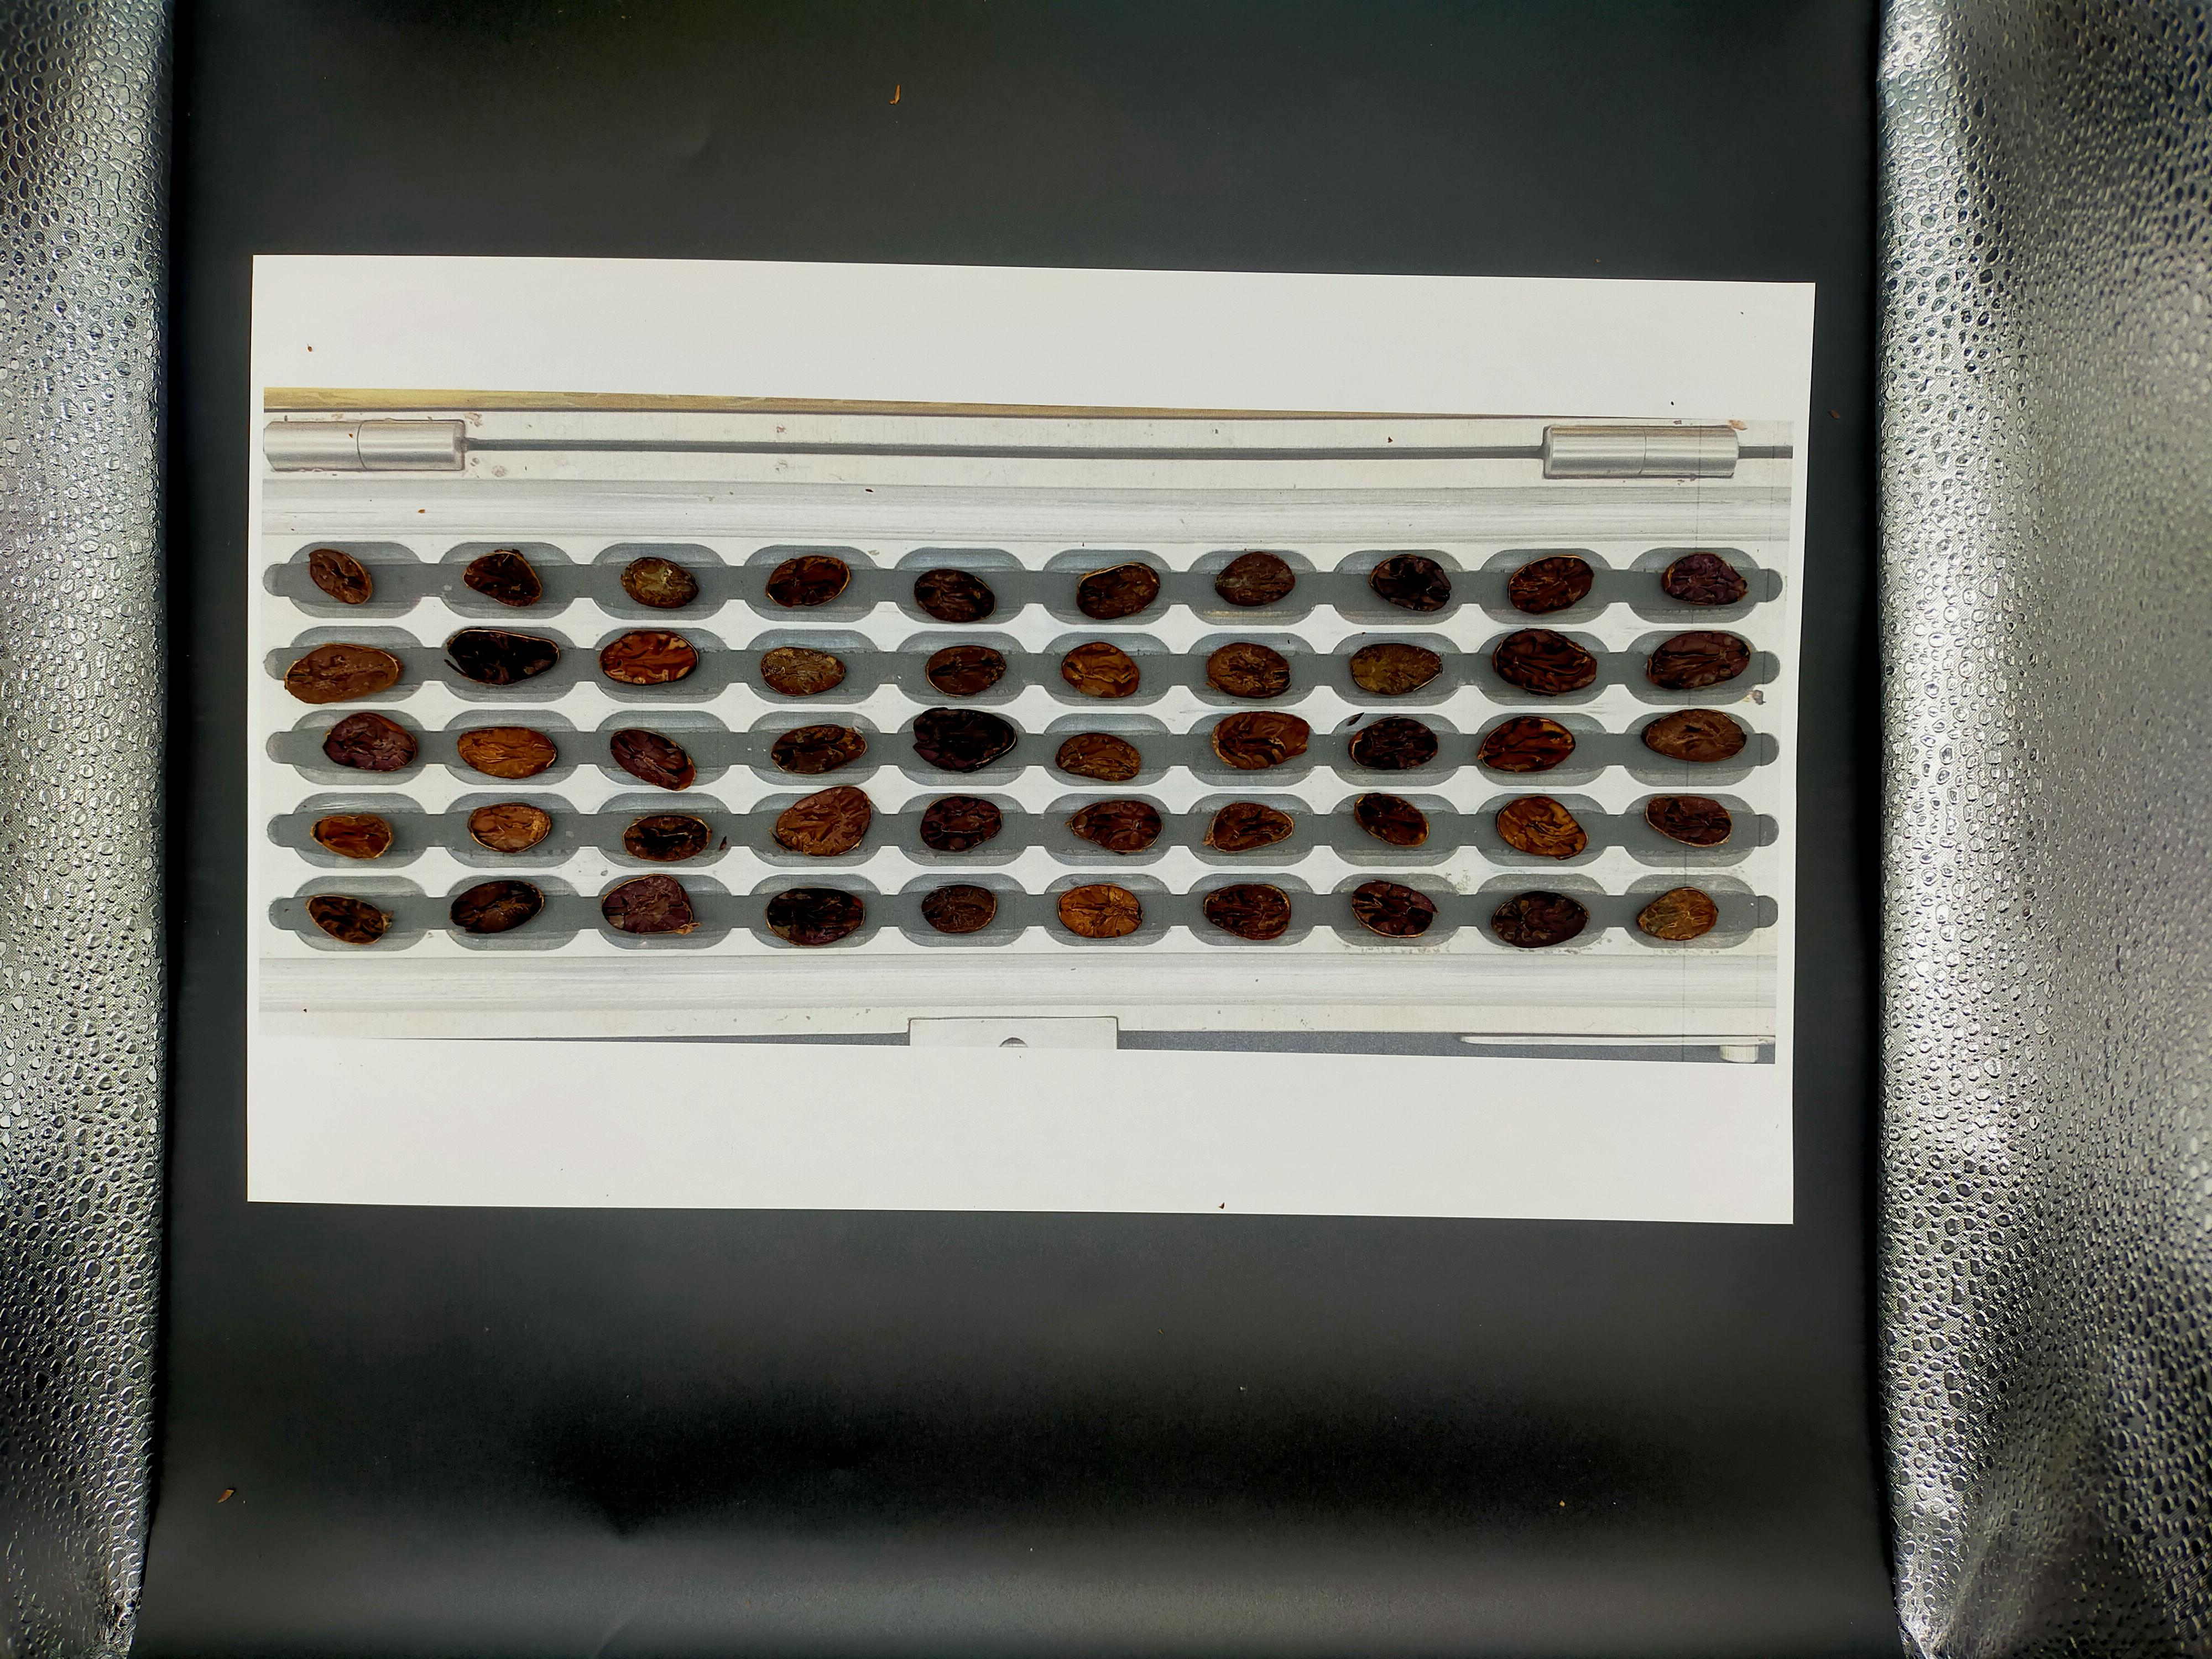Brown - G1: (1841, 1129, 1902, 1171), (1834, 1173, 1892, 1213), (1383, 1127, 1442, 1164), (1235, 1223, 1285, 1253)
Brown - G2: (1474, 1209, 1531, 1253), (1841, 1211, 1897, 1253), (1623, 1215, 1679, 1253), (1696, 1171, 1756, 1206), (1846, 1091, 1902, 1127), (1693, 1258, 1745, 1295), (1467, 1091, 1524, 1124), (1770, 1211, 1817, 1249), (1618, 1134, 1667, 1171), (1695, 1218, 1745, 1251)
Brown - G3: (1221, 1134, 1289, 1176), (1916, 1169, 1979, 1204), (1310, 1176, 1369, 1213), (1618, 1258, 1669, 1295), (1627, 1094, 1677, 1131), (1695, 1138, 1745, 1173), (1618, 1180, 1667, 1215), (1548, 1136, 1599, 1169), (1315, 1218, 1367, 1249), (1233, 1086, 1275, 1124)
Insect-damaged: (1766, 1138, 1822, 1168)
Mouldy: (1698, 1086, 1749, 1126), (1392, 1089, 1442, 1126), (1914, 1260, 1963, 1297), (1463, 1138, 1517, 1169), (1548, 1262, 1594, 1291)
Partly Purple - G1: (1541, 1169, 1606, 1209), (1764, 1256, 1820, 1295)
Partly Purple - G2: (1301, 1126, 1369, 1164), (1919, 1127, 1979, 1168), (1467, 1262, 1529, 1298), (1545, 1213, 1599, 1251), (1768, 1176, 1820, 1209), (1395, 1223, 1449, 1253)
Partly Purple - G3: (1388, 1178, 1439, 1220)
Total Purple - G2: (1926, 1087, 1980, 1127)
Total Purple - G3: (1383, 1255, 1440, 1293), (1240, 1171, 1298, 1208)
Very Dark Brown - G1: (1235, 1265, 1282, 1298)
Very Dark Brown - G2: (1777, 1089, 1829, 1129), (1313, 1087, 1362, 1127), (1918, 1213, 1970, 1249), (1543, 1096, 1595, 1131)
Very Dark Brown - G3: (1839, 1263, 1898, 1300), (1306, 1256, 1362, 1291), (1472, 1178, 1529, 1211)
